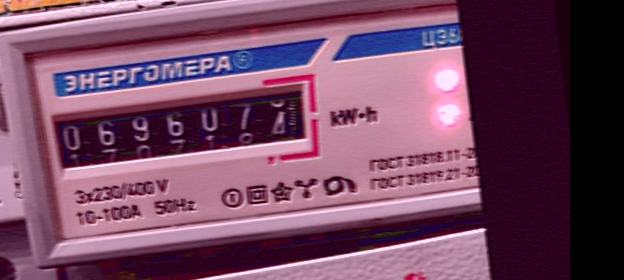0: (199, 105, 221, 137), (61, 125, 83, 155)
4: (269, 112, 289, 142)
6: (164, 111, 187, 143), (96, 120, 118, 150)
7: (235, 103, 255, 135)
9: (131, 117, 151, 147)
screen: (36, 69, 330, 192)
